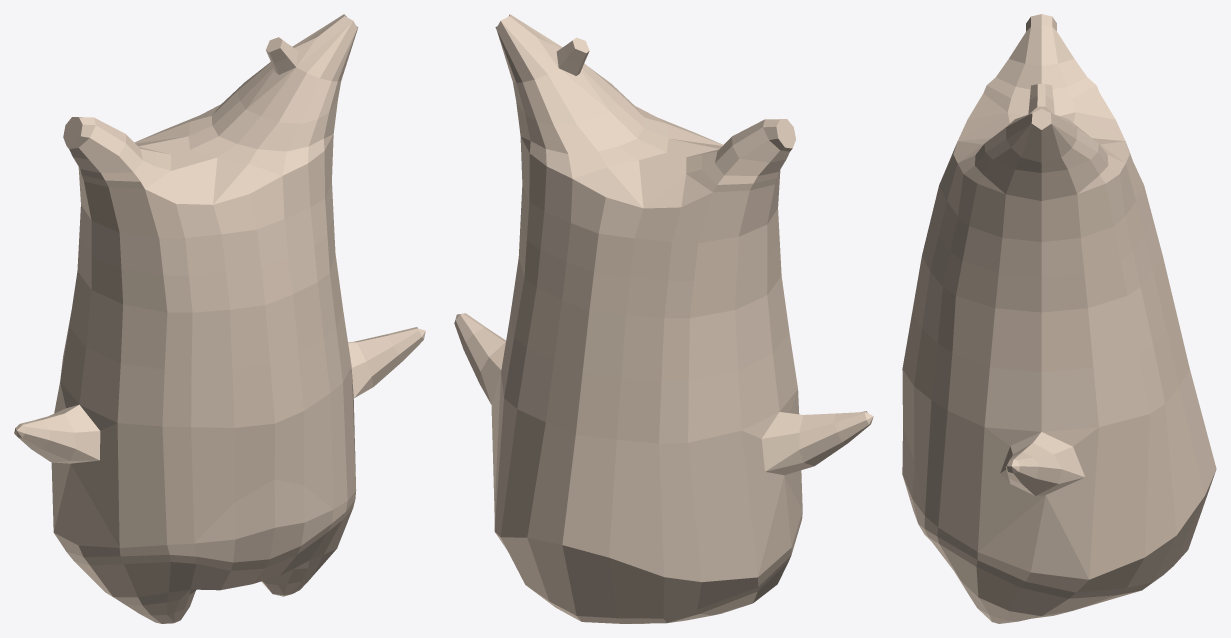
The model's file is frame_0150.obj.
3 views of the same model, side by side, from view 1: azimuth 30°, elevation 25°; view 2: azimuth 150°, elevation 25°; view 3: azimuth 270°, elevation 25° (orthographic).
Visible parts, largest first — view 1: korok; view 2: korok; view 3: korok.
Part boxes in pixels (x1,y1,x2,y2): korok: (14,14,425,623); korok: (454,14,873,623); korok: (902,14,1216,623).
Size of the model in its own units: 1.6 by 2.04 by 1.05.
